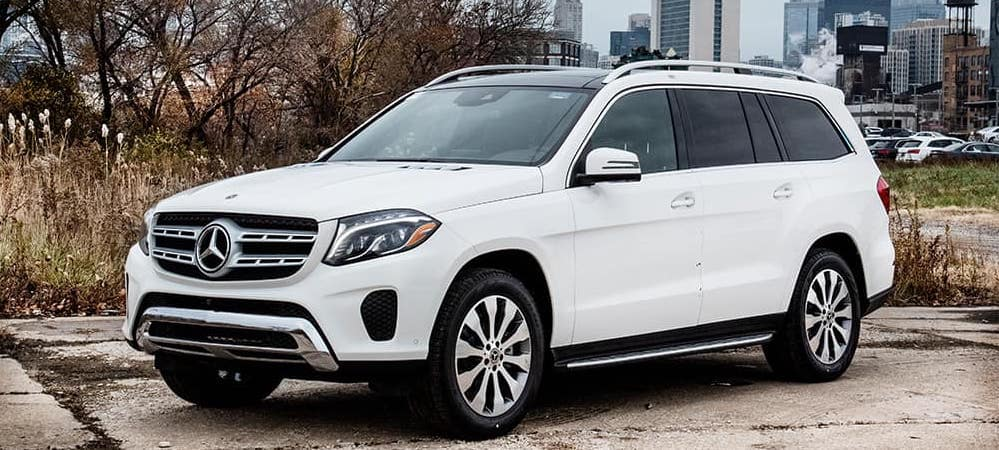car: (120, 59, 896, 441)
